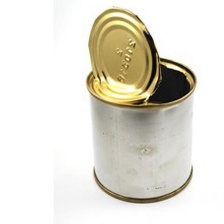can: (68, 2, 201, 207)
